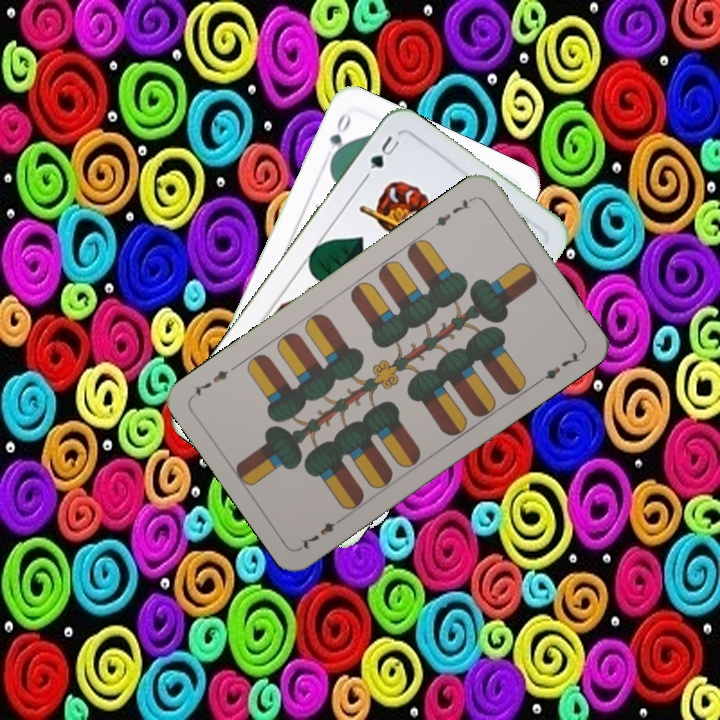E7: (296, 512, 348, 553), (431, 193, 478, 230)
GO: (325, 108, 354, 166)
GU: (366, 131, 403, 172)
